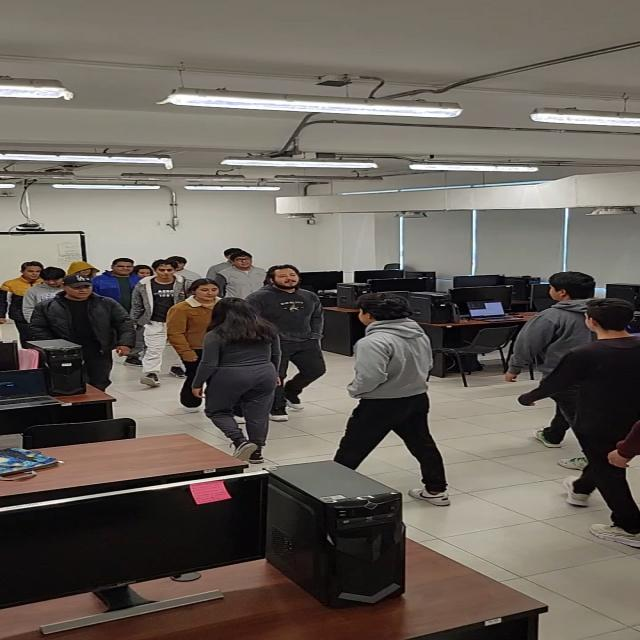Persona: (517, 297, 640, 549), (331, 291, 454, 507), (507, 270, 612, 450), (190, 296, 284, 465), (27, 272, 137, 393), (244, 264, 328, 422), (126, 258, 207, 387), (163, 278, 228, 413), (92, 255, 146, 365), (1, 260, 46, 349), (17, 266, 74, 334), (213, 251, 273, 303), (57, 260, 102, 283), (172, 256, 197, 284)
